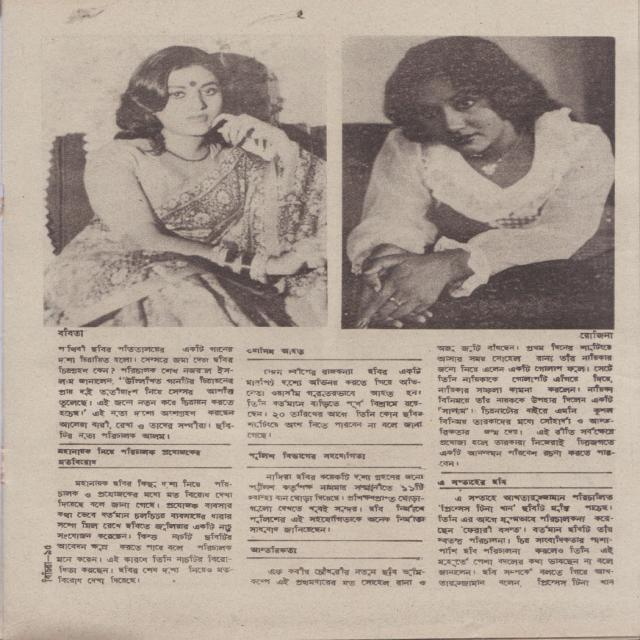caption: (579, 330, 613, 339), (58, 328, 84, 338)
image: (41, 34, 329, 328), (340, 35, 617, 331)
page number: (43, 545, 52, 557)
paragraph: (437, 342, 616, 467), (56, 478, 233, 585), (437, 491, 615, 588), (58, 345, 236, 441), (246, 364, 424, 440), (249, 471, 425, 538), (251, 568, 427, 587)
text: (41, 561, 53, 582)
title: (58, 446, 201, 465), (249, 450, 365, 460), (437, 476, 506, 489), (246, 346, 305, 355), (251, 546, 297, 554)
